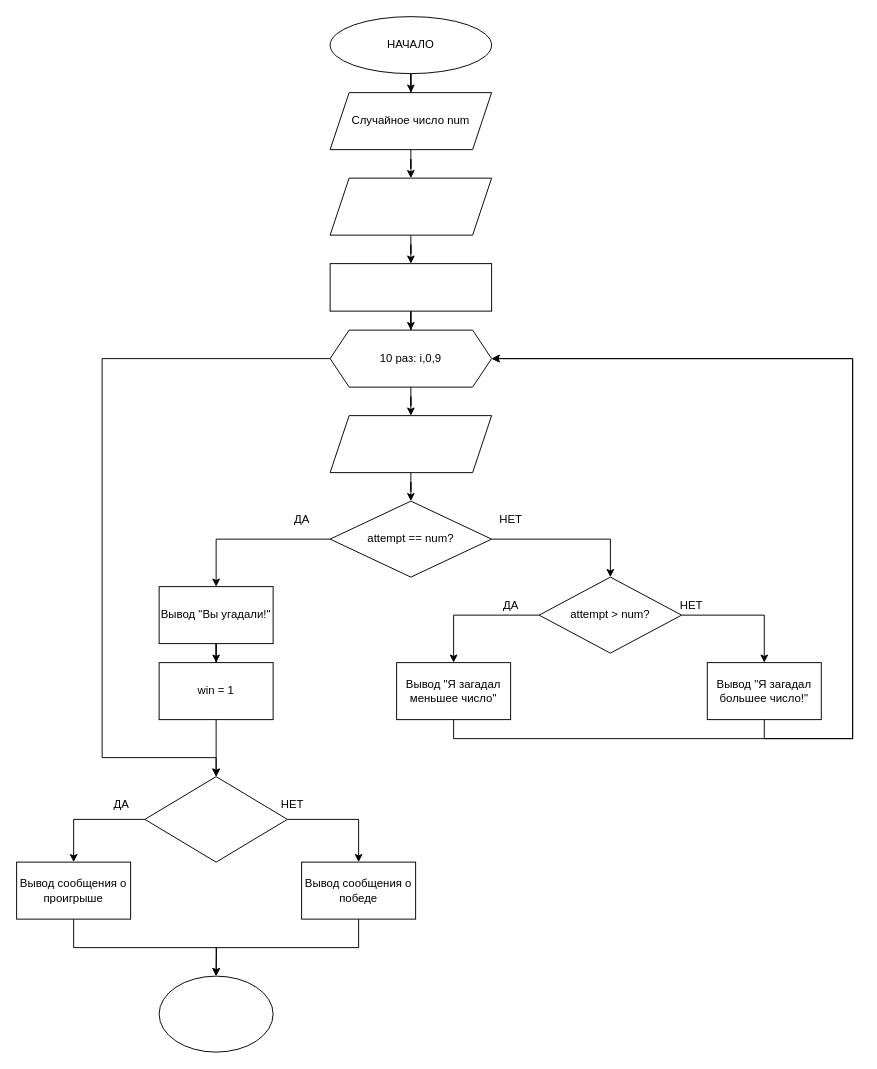
Image size: 877x1069. Some labels were removed from this diagram. Each missing label, with the centre of its shape:
"win = 0" goes at pixel 410 206.
"win == 0?" goes at pixel 215 819.
"Ввод attempt" goes at pixel 410 444.
"Вывод пользователю сообщения, что число загадано" goes at pixel 410 287.
"КОНЕЦ" goes at pixel 215 1013.
